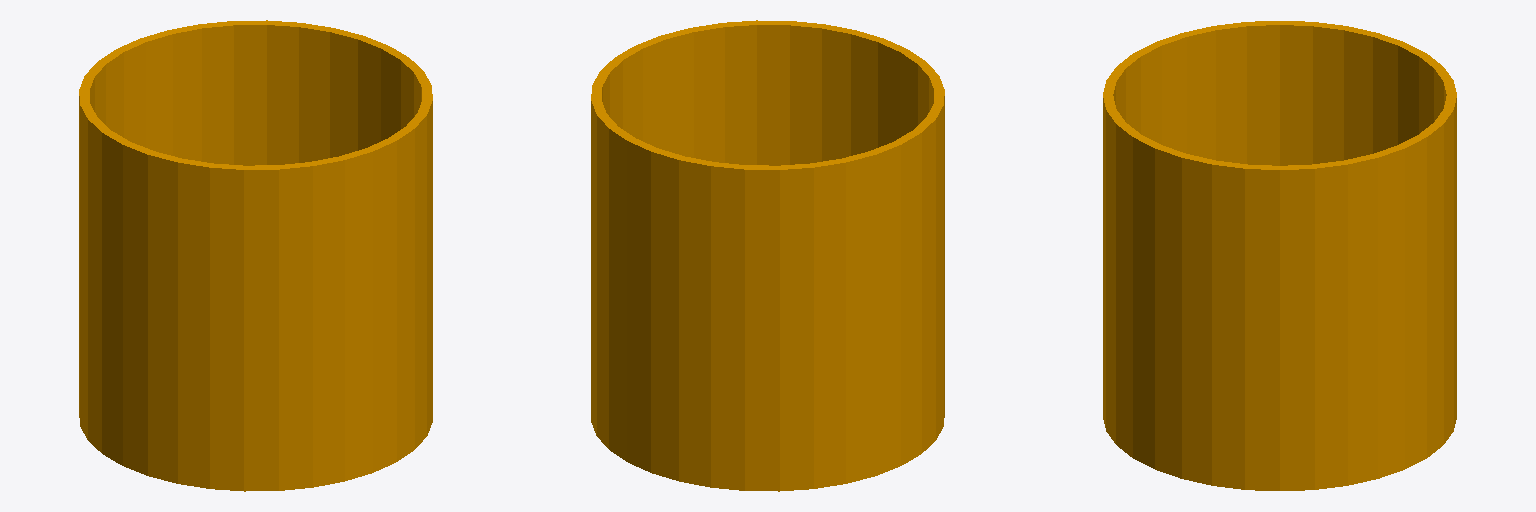
URDF robot description (my_object):
<?xml version="1.0" ?> 
<robot name="my_object">
  <link name="base_link">
  <inertial>
    <mass value="0.01" />
    <origin xyz="0 0 0.0" />
    <inertia  ixx="1.0" ixy="0.0"  ixz="0.0"  iyy="1.0"  iyz="0.0"  izz="1.0" />
  </inertial>
  <visual>
   <origin xyz="0 0 0.0" rpy="0 0 0" />
   <geometry>
     <mesh filename="package://cob_surface_classification/models/media/models/cylinder_hollow.dae" scale="0.1 0.1 0.1"/>
   </geometry>
  </visual>
  <collision>
   <origin xyz="0 0 0.0" rpy="0 0 0" />
   <!--geometry>
     <mesh filename="package://cob_surface_classification/models/media/models/cylinder_hollow.dae" scale="0.1 0.1 0.1">
   </geometry-->
  </collision>     
  </link>
<gazebo>
	<static>true</static>
</gazebo>

</robot>

--- What the picture shows (computed from the rendered views, not written in the file) ---
3 views of the same robot in one strip: view 1: azimuth 30°, elevation 25°; view 2: azimuth 150°, elevation 25°; view 3: azimuth 270°, elevation 25° (orthographic).
Model my_object with 1 links and 0 joints (none), rooted at base_link, posed all joints at 0.
Links seen in each view (by area): view 1: base_link; view 2: base_link; view 3: base_link.
Boxes of the visible links, x1,y1,x2,y2 form: base_link: [79, 20, 432, 491]; base_link: [591, 20, 944, 491]; base_link: [1103, 21, 1456, 490].
Size in the robot's own frame: 0.2 by 0.2 by 0.2 metres.
1 mesh visuals loaded from 1 distinct referenced files (1 Collada DAE).